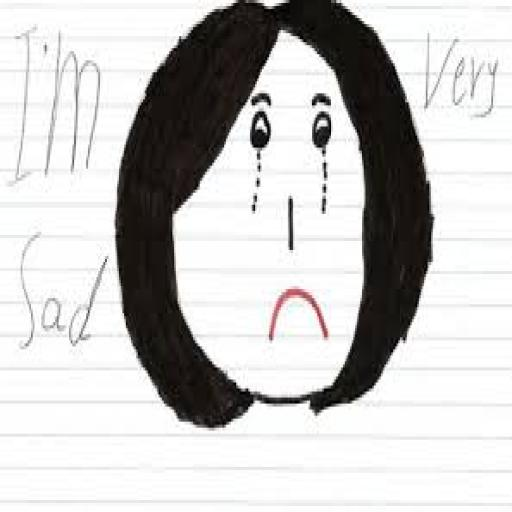person: (113, 0, 436, 461)
